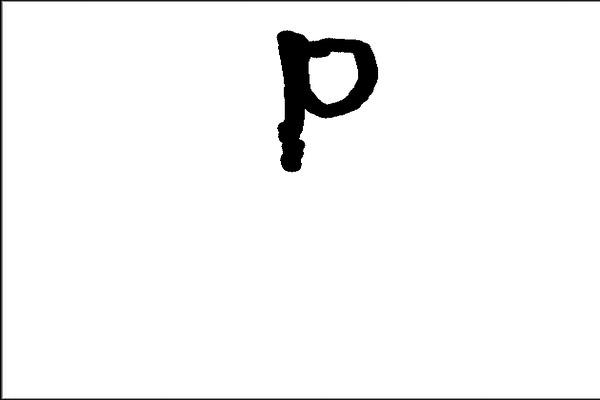P: (260, 19, 395, 183)
